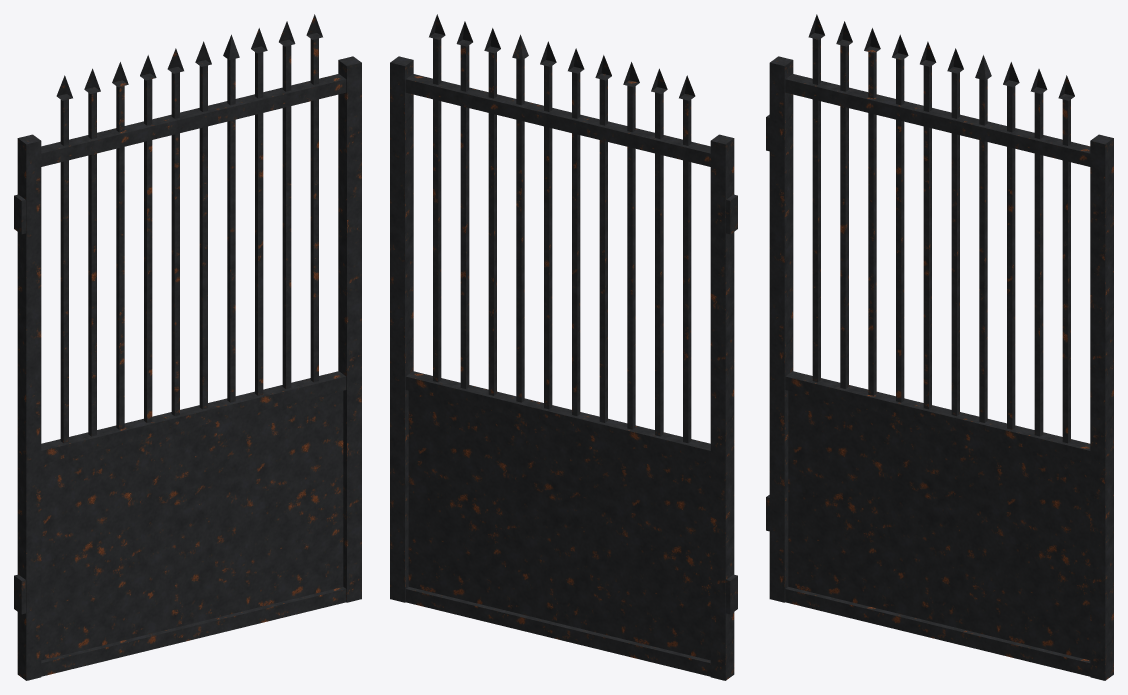
File: porton_izq.obj
The picture shows the model from 3 angles, left to right: view 1: azimuth 30°, elevation 25°; view 2: azimuth 150°, elevation 25°; view 3: azimuth 330°, elevation 25°; orthographic projection.
Parts seen in each view (by area): view 1: porton_hoja_izq; view 2: porton_hoja_izq; view 3: porton_hoja_izq.
Boxes of the visible parts, x1,y1,x2,y2 form: porton_hoja_izq: (14,14,361,680); porton_hoja_izq: (390,14,737,680); porton_hoja_izq: (766,14,1113,680).
Size of the model in its own units: 1.59 by 2.65 by 0.07.
Materials: 1 (1 with a texture image).
